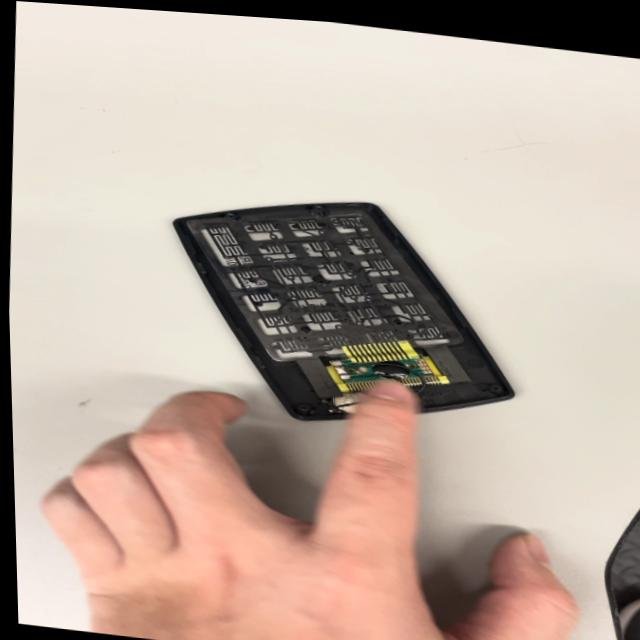front_panel: (162, 171, 498, 451)
